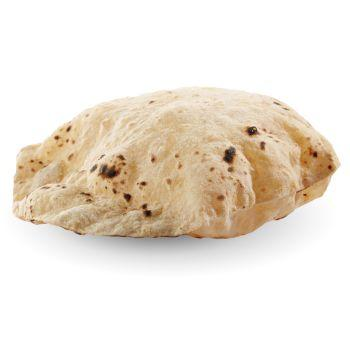roti phulka: (13, 84, 341, 241)
